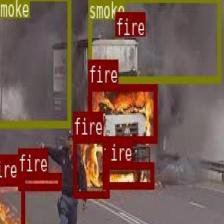fire: (87, 83, 156, 141), (72, 135, 108, 197), (102, 160, 154, 186), (0, 178, 24, 224), (17, 171, 60, 189), (114, 12, 132, 33)
smoke: (87, 0, 220, 82), (0, 0, 70, 126)
